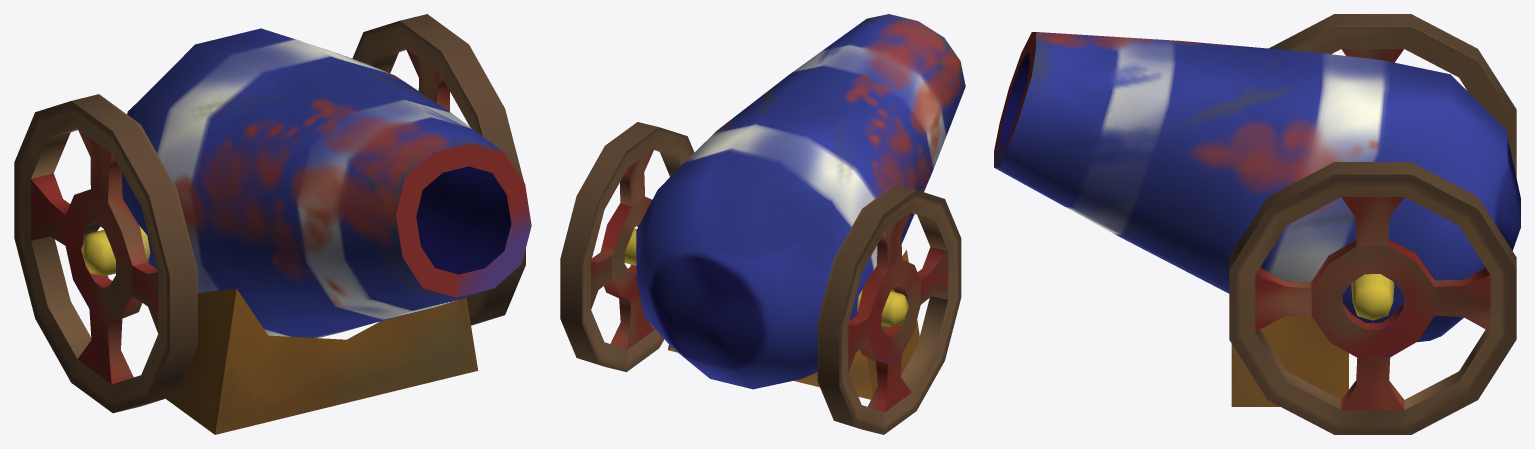
Rendered from Prop_Cannon.glb.
3 views of the same model, side by side, from view 1: azimuth 30°, elevation 25°; view 2: azimuth 150°, elevation 25°; view 3: azimuth 270°, elevation 25° (orthographic). The views are drawn at different scales.
Visible parts, largest first — view 1: Roundcube, Cylinder, Cube.002, Roundcube.002; view 2: Roundcube, Cylinder, Cube.002, Roundcube.002; view 3: Roundcube, Cylinder, Cube.002, Roundcube.002.
Boxes of the visible parts, box(x1,y1,x2,y2) form: Roundcube: box(121, 28, 531, 337); Cylinder: box(14, 14, 525, 413); Cube.002: box(166, 288, 478, 434); Roundcube.002: box(81, 225, 150, 275); Roundcube: box(636, 14, 965, 389); Cylinder: box(560, 122, 961, 434); Cube.002: box(668, 250, 919, 399); Roundcube.002: box(624, 228, 908, 327); Roundcube: box(994, 32, 1520, 342); Cylinder: box(1229, 14, 1516, 434); Cube.002: box(1231, 316, 1348, 406); Roundcube.002: box(1351, 274, 1394, 320).
Size of the model in its own units: 1.03 by 0.8988 by 1.37.
Materials: 1 (1 with a texture image).
